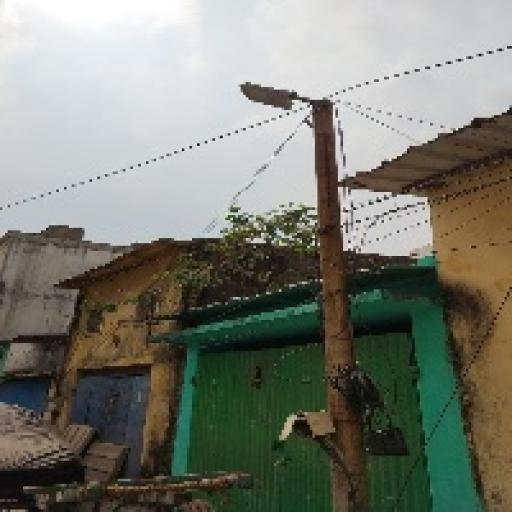Not Working: (230, 78, 308, 119)
